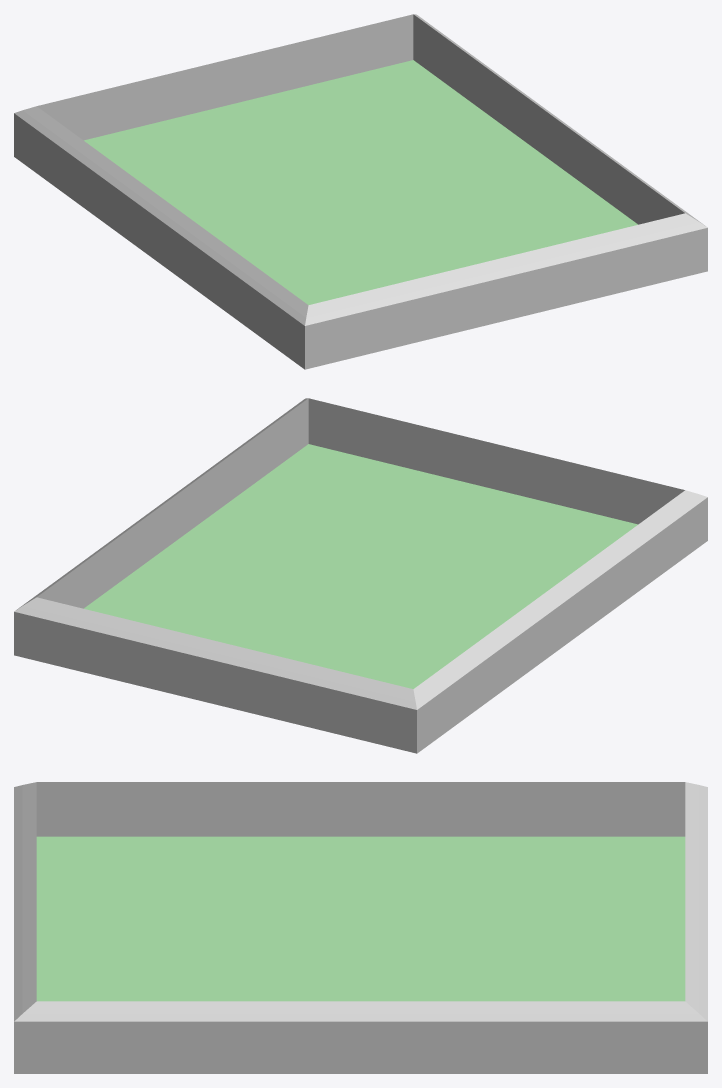
File: dice_tray_basic_rectangle.glb
The picture shows the model from 3 angles, top to bottom: view 1: azimuth 30°, elevation 25°; view 2: azimuth 150°, elevation 25°; view 3: azimuth 270°, elevation 25°; orthographic projection. The views are drawn at different scales.
Parts seen in each view (by area): view 1: DiceTrayRectangle; view 2: DiceTrayRectangle; view 3: DiceTrayRectangle.
Part boxes in pixels (x1,y1,x2,y2): DiceTrayRectangle: (14,14,707,369); DiceTrayRectangle: (14,398,707,753); DiceTrayRectangle: (14,782,707,1073).
Bounding box in the file's own units: 1.6 × 0.2062 × 2.
